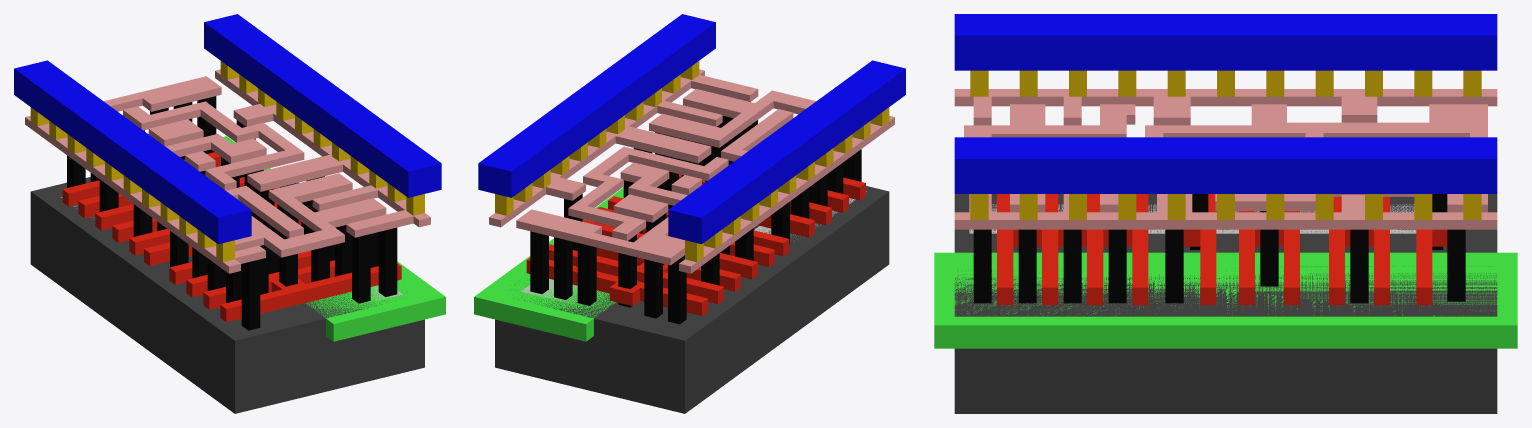
File: sky130_fd_sc_hd__maj3_4.obj
3 views of the same model, side by side, from view 1: azimuth 30°, elevation 25°; view 2: azimuth 150°, elevation 25°; view 3: azimuth 270°, elevation 25° (orthographic). The views are drawn at different scales.
Visible parts, largest first — view 1: subs, metal1, li, licon, poly, nwell, mcon; view 2: subs, metal1, li, licon, poly, nwell, mcon; view 3: metal1, subs, nwell, li, poly, licon, mcon, diff.
Part boxes in pixels (box(x1,y1,x2,y2)): subs: box(30, 177, 424, 413); metal1: box(14, 14, 441, 244); li: box(25, 69, 430, 273); licon: box(67, 96, 397, 330); poly: box(62, 152, 401, 322); nwell: box(223, 136, 445, 341); mcon: box(30, 61, 424, 262); subs: box(495, 186, 889, 413); metal1: box(478, 14, 905, 244); li: box(489, 69, 894, 273); licon: box(530, 115, 861, 324); poly: box(526, 174, 865, 315); nwell: box(474, 187, 623, 341); mcon: box(495, 61, 889, 262); metal1: box(954, 14, 1497, 193); subs: box(954, 194, 1497, 413); nwell: box(934, 252, 1517, 348); li: box(954, 89, 1497, 229); poly: box(997, 194, 1447, 305); licon: box(973, 194, 1465, 303); mcon: box(970, 70, 1481, 219); diff: box(969, 204, 1416, 233).
Size of the model in its own units: 3.2 by 2.74 by 5.44.
